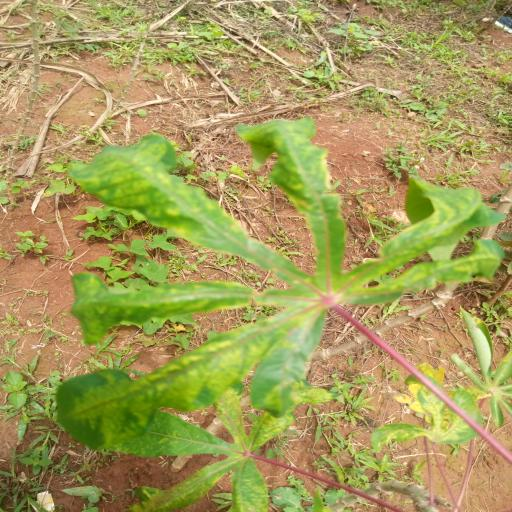Cassava_Mosaic: (58, 116, 502, 450)
